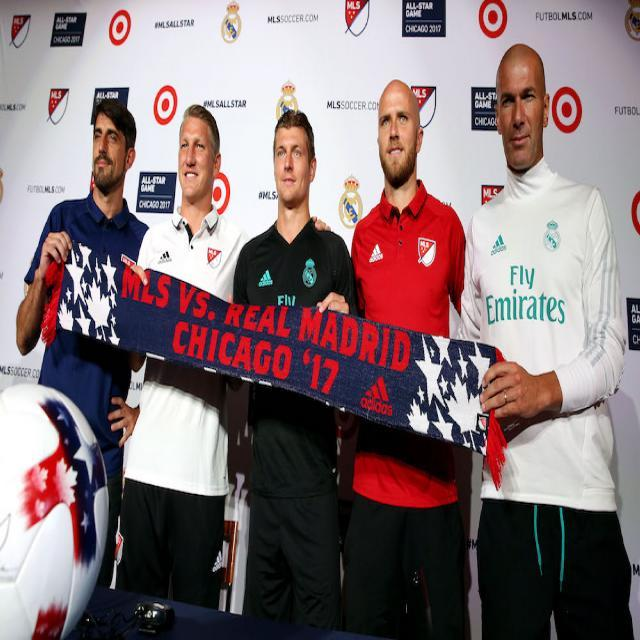Adidas: (361, 374, 394, 418), (157, 242, 176, 270), (490, 231, 508, 256), (257, 268, 274, 292), (368, 242, 385, 264)
Emirates: (486, 263, 567, 328)
